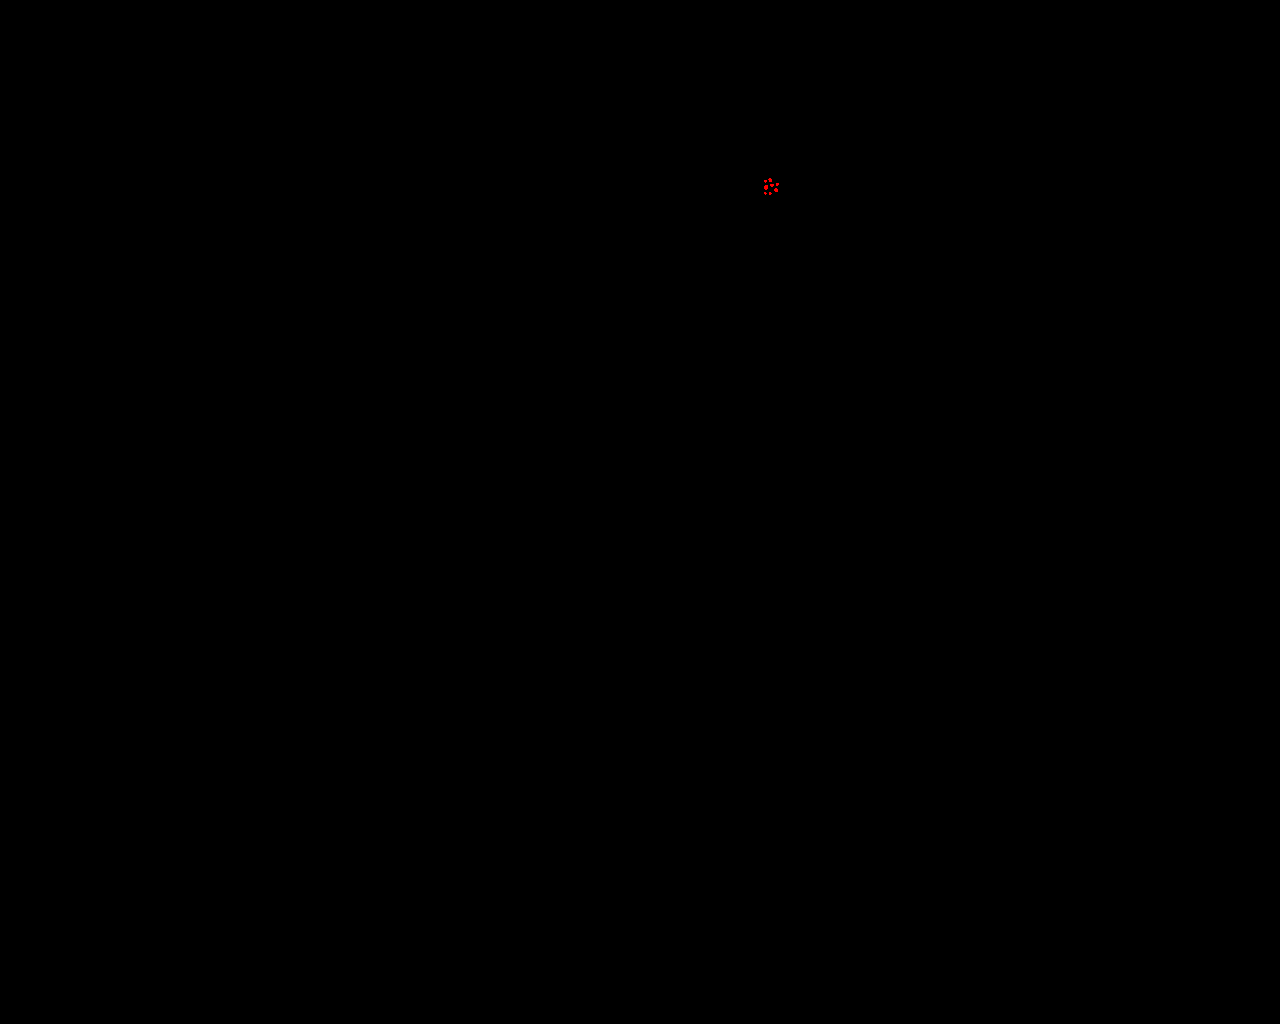Target: (764, 185, 768, 190), (768, 178, 772, 182), (774, 188, 778, 192), (770, 184, 774, 187), (764, 180, 767, 183), (776, 183, 779, 186), (764, 192, 767, 195), (769, 192, 772, 195)
